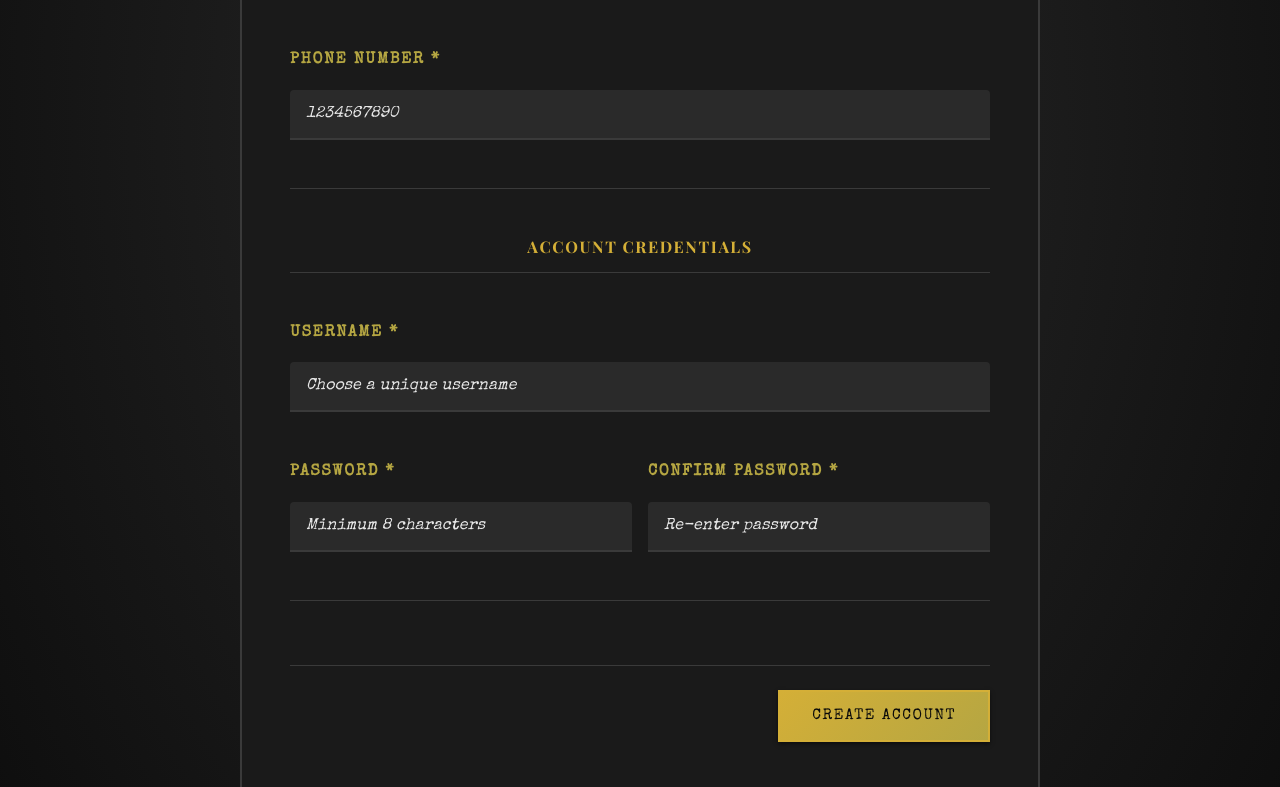
Register Component › validates username length
The image size is (1280, 787).
(page scrolled)
Type "ab" into the field labelled "Username *". click: coordinates (640, 387)
box: [290,362,990,412]
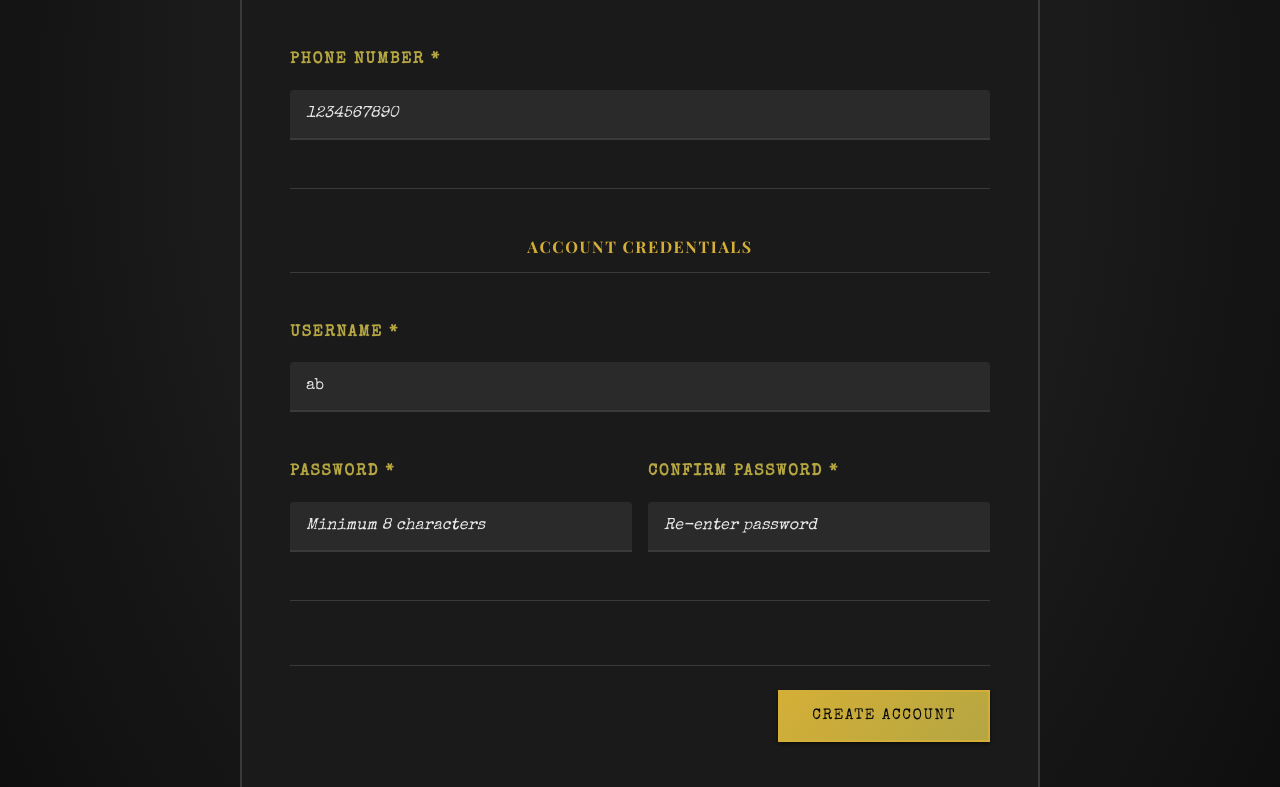
Click the button "Create Account". click: coordinates (884, 716)
box: [778,690,990,742]
(page scrolled)
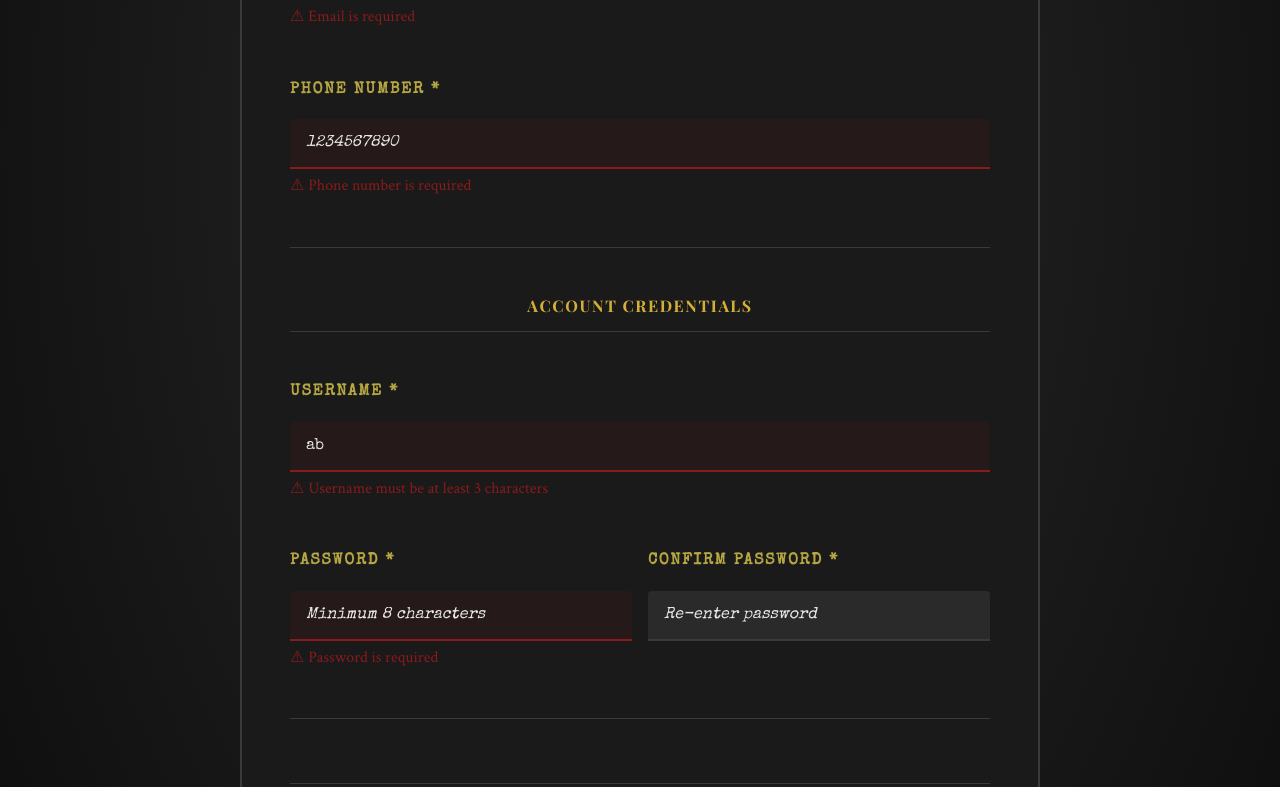
Now the text "Username must be at least 3 characters" is shown, box [308,478,548,499]
